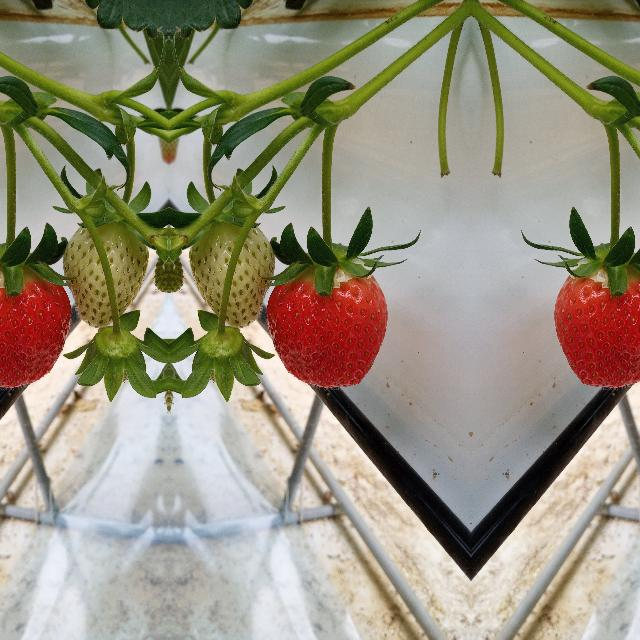Health_100: (264, 263, 388, 389), (553, 263, 640, 389), (0, 263, 71, 389)
Health_25: (188, 216, 270, 338), (66, 216, 148, 338)
